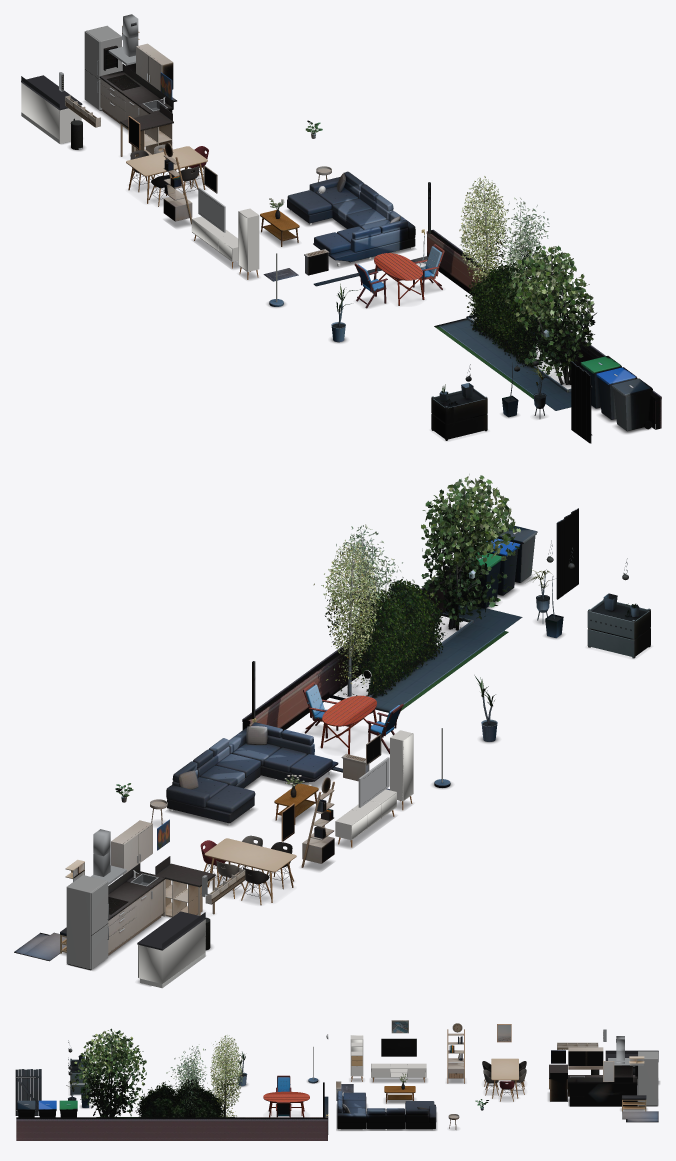
The model's file is ground-furniture.glb.
3 renders of one model, top to bottom at view 1: azimuth 30°, elevation 25°; view 2: azimuth 150°, elevation 25°; view 3: azimuth 270°, elevation 25°, orthographic. The views are drawn at different scales.
Visible parts, largest first — view 1: border__fig_branch0_0, border__bed_groundcover, border__tree_branch0, living_room__sofa_back_back, border__path_slabs, kitchen__oven_controls, kitchen__dishwasher_front, back_corner__crate_board_x-1_0, patio__low_brick_wall, living_room__sofa_chaise_arm, kitchen__fridge_body_pbr, back_corner__bin_axle.002 (+14 smaller); view 2: border__fig_branch0_0, border__bed_groundcover, border__tree_branch0, border__path_slabs, living_room__sofa_back_back, kitchen__oven_controls, patio__low_brick_wall, kitchen__fridge_body_pbr, kitchen__dishwasher_front, living_room__sofa_chaise_arm, back_corner__crate_board_x-1_0, kitchen__cube_shelf_bottom (+14 smaller); view 3: patio__low_brick_wall, border__fig_branch0_0, border__bed_groundcover, kitchen__dishwasher_front, border__tree_branch0, living_room__sofa_back_back, kitchen__fridge_body_pbr, back_corner__gate_batten0, living_room__sofa_chaise_arm, living_room__tvb_back, living_room__sofa_side_back, kitchen__wallcab_body (+22 smaller).
Boxes of the visible parts, left/top/right/bottom form: border__fig_branch0_0: left=505, top=245, right=596, bottom=384; border__bed_groundcover: left=465, top=197, right=565, bottom=384; border__tree_branch0: left=459, top=176, right=511, bottom=313; living_room__sofa_back_back: left=313, top=211, right=415, bottom=262; border__path_slabs: left=439, top=318, right=571, bottom=410; kitchen__oven_controls: left=21, top=75, right=82, bottom=143; kitchen__dishwasher_front: left=99, top=63, right=173, bottom=133; back_corner__crate_board_x-1_0: left=431, top=383, right=487, bottom=440; patio__low_brick_wall: left=426, top=229, right=661, bottom=429; living_room__sofa_chaise_arm: left=287, top=171, right=364, bottom=223; kitchen__fridge_body_pbr: left=84, top=25, right=121, bottom=110; back_corner__bin_axle.002: left=611, top=378, right=652, bottom=431; border__fig_branch0_0: left=421, top=474, right=520, bottom=630; border__bed_groundcover: left=334, top=524, right=462, bottom=697; border__tree_branch0: left=313, top=539, right=381, bottom=696; border__path_slabs: left=372, top=604, right=522, bottom=712; living_room__sofa_back_back: left=228, top=722, right=338, bottom=784; kitchen__oven_controls: left=137, top=911, right=205, bottom=988; patio__low_brick_wall: left=242, top=569, right=460, bottom=730; kitchen__fridge_body_pbr: left=66, top=875, right=108, bottom=969; kitchen__dishwasher_front: left=108, top=863, right=165, bottom=955; living_room__sofa_chaise_arm: left=166, top=761, right=255, bottom=823; back_corner__crate_board_x-1_0: left=587, top=593, right=650, bottom=658; kitchen__cube_shelf_bottom: left=155, top=856, right=215, bottom=917; patio__low_brick_wall: left=16, top=1117, right=327, bottom=1140; border__fig_branch0_0: left=74, top=1028, right=146, bottom=1117; border__bed_groundcover: left=135, top=1044, right=226, bottom=1117; kitchen__dishwasher_front: left=568, top=1065, right=637, bottom=1106; border__tree_branch0: left=207, top=1035, right=243, bottom=1117; living_room__sofa_back_back: left=337, top=1091, right=366, bottom=1128; kitchen__fridge_body_pbr: left=638, top=1051, right=658, bottom=1105; back_corner__gate_batten0: left=15, top=1069, right=41, bottom=1115; living_room__sofa_chaise_arm: left=405, top=1101, right=436, bottom=1128; living_room__tvb_back: left=371, top=1063, right=426, bottom=1082; living_room__sofa_side_back: left=366, top=1108, right=405, bottom=1128; kitchen__wallcab_body: left=568, top=1047, right=603, bottom=1069.
Size of the model in its own units: 5.51 by 3.77 by 22.24.
75 materials, 44 textured.
